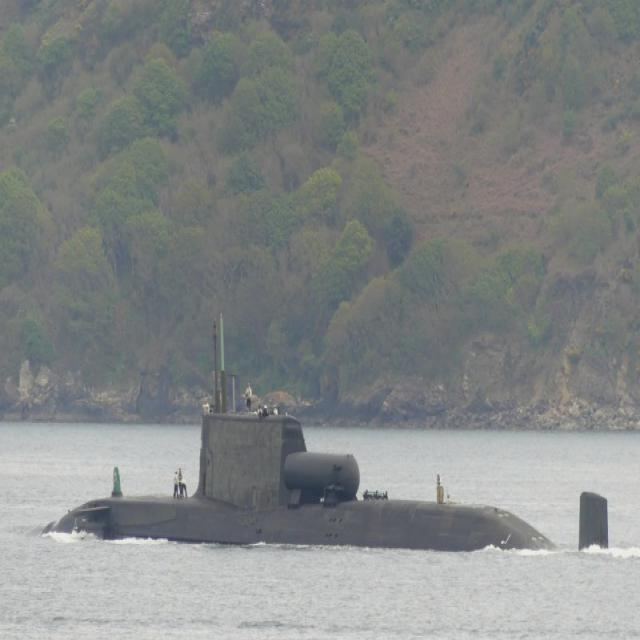submarine: (32, 411, 613, 551)
